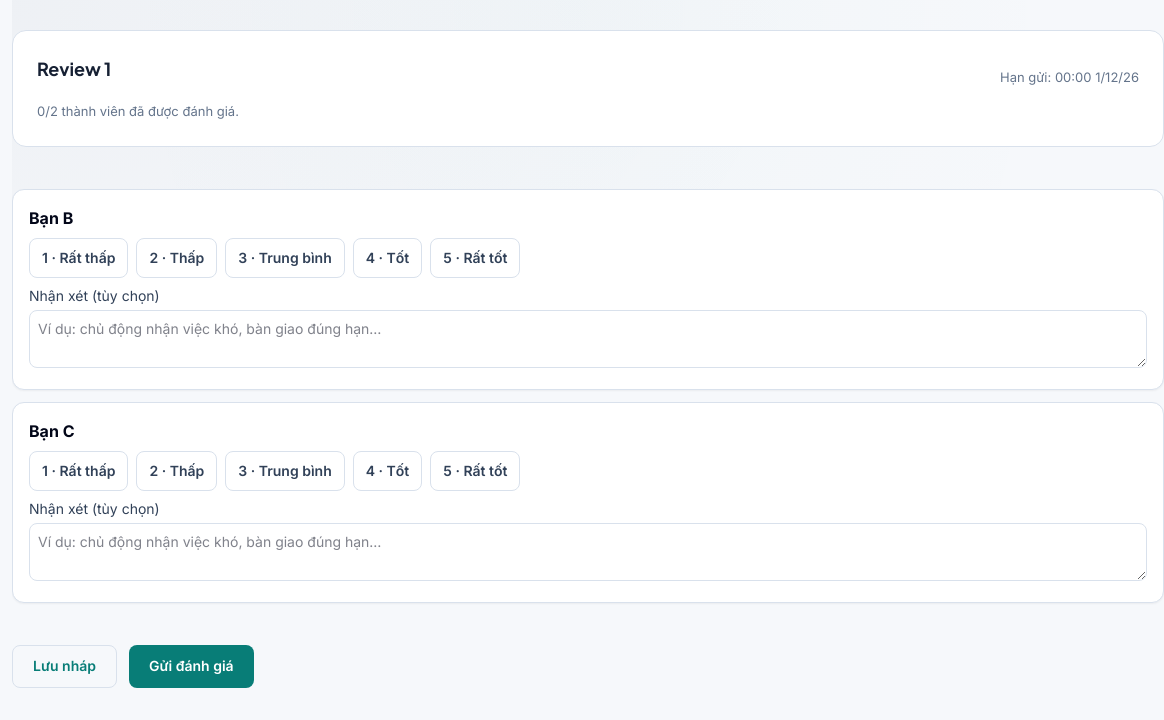
Test: ProjectPeerEvaluationPage › requires every roster member rated before submitting
(page scrolled)
Expected: the heading "Bạn B" is shown, [29,208,73,228]
What coordinates should you click on to do the following:
click the button "Gửi đánh giá"
I would click on:
 (191, 666)
Its box is [129,645,254,688].
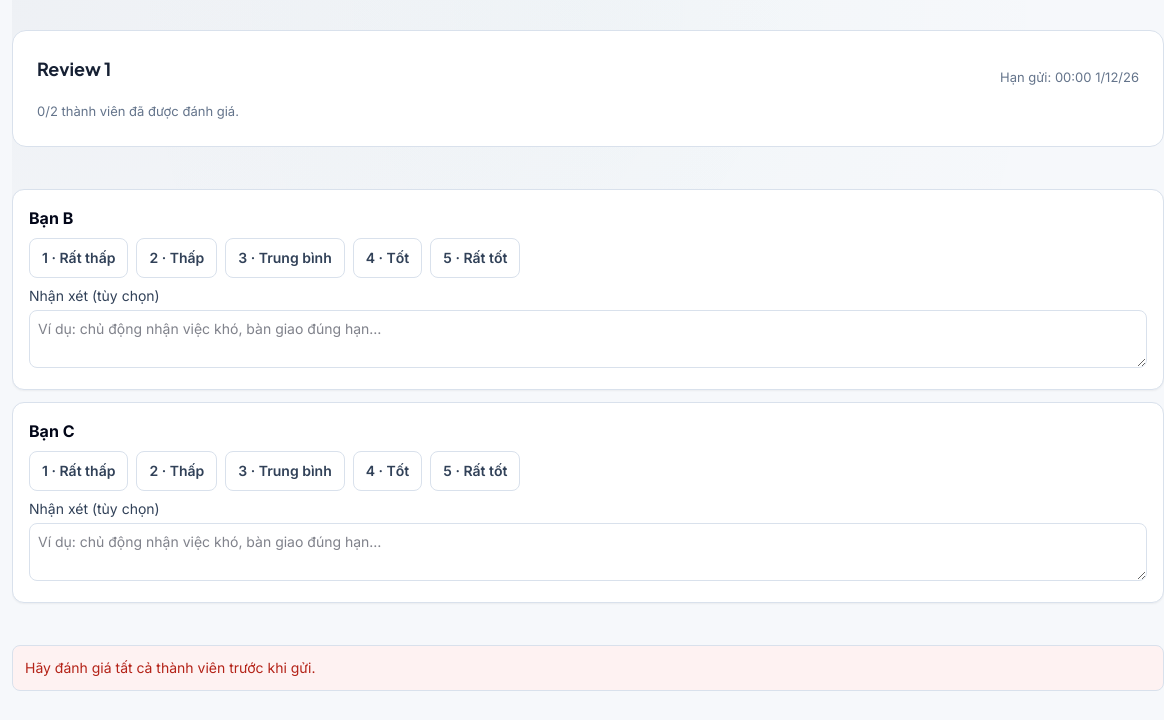
Expected: the message "Hãy đánh giá tất cả thành viên trước khi gửi." is shown, [12,645,1163,691]
